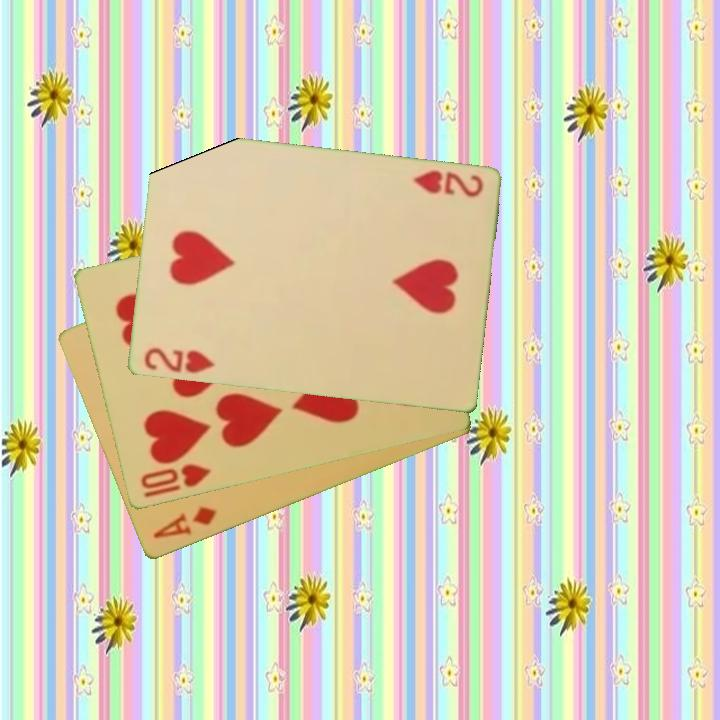10h: (137, 461, 214, 493)
2h: (140, 344, 217, 377), (410, 167, 486, 200)
Ad: (149, 503, 220, 542)
